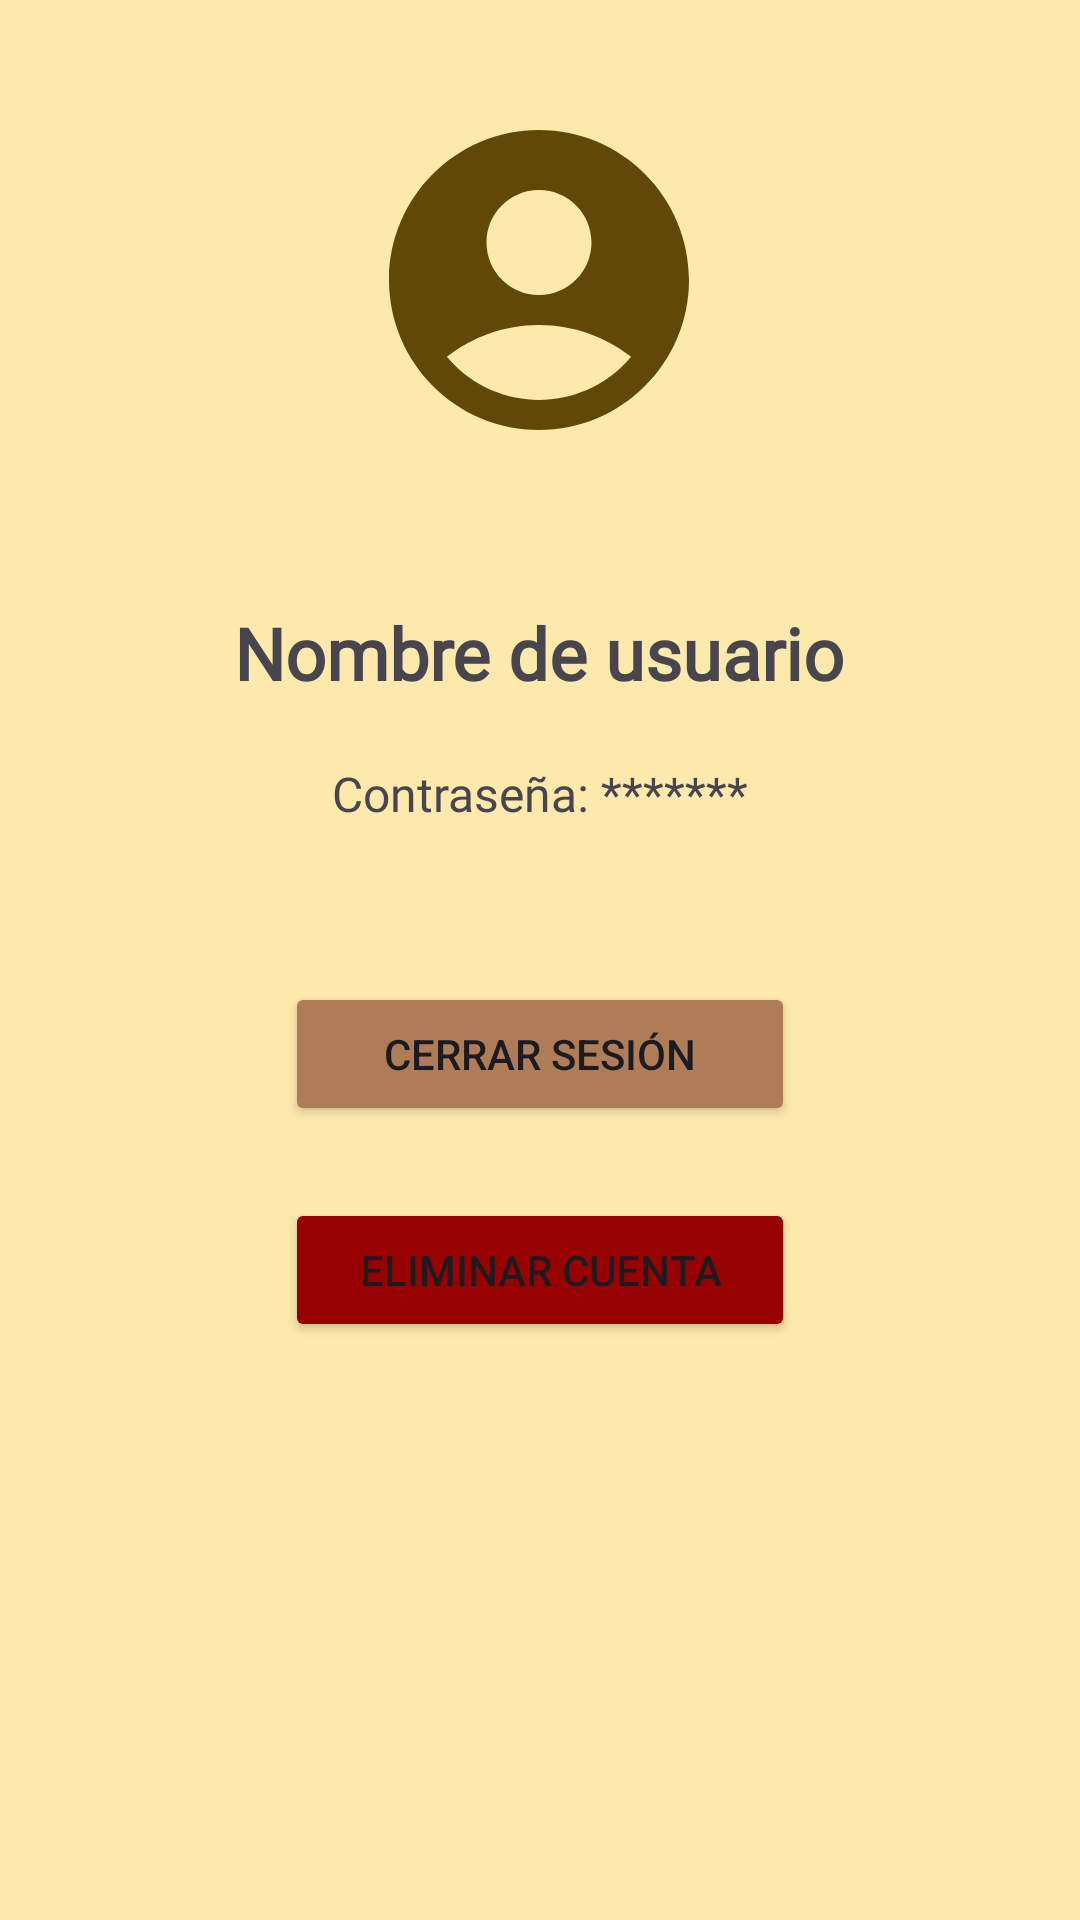

Locate icon controls on the screen. Image size 1080x1920, boxes as (x1, y1, x2, y2).
Imagen de perfil: (389, 130, 689, 430)
